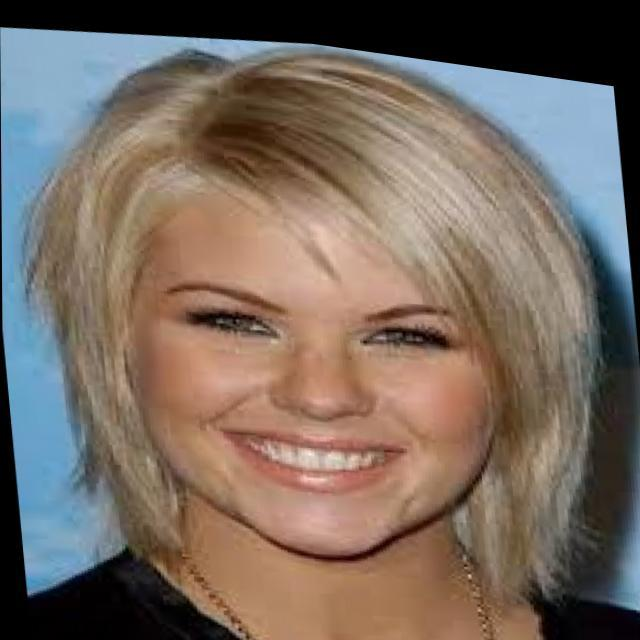Nonhelmet: (22, 46, 608, 606)
